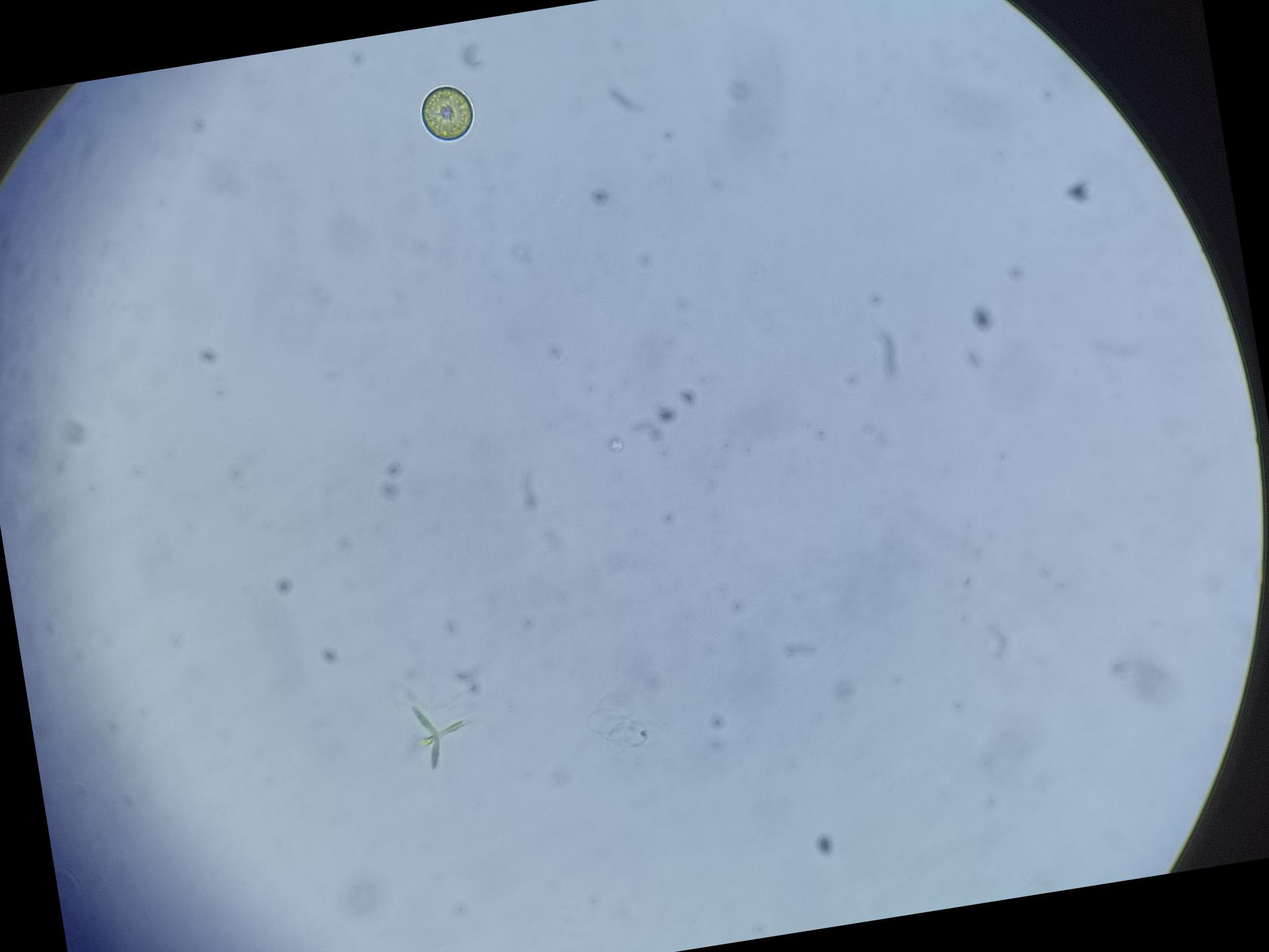Scenedesmus: (392, 692, 490, 783)
